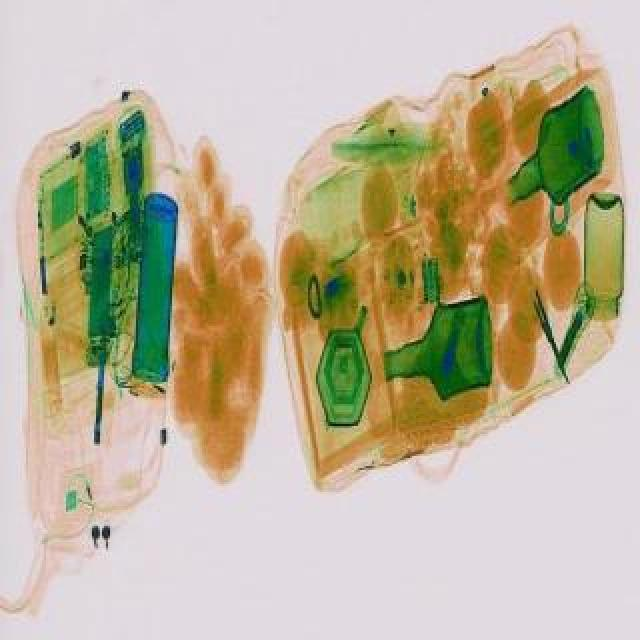knife: (526, 286, 574, 382)
